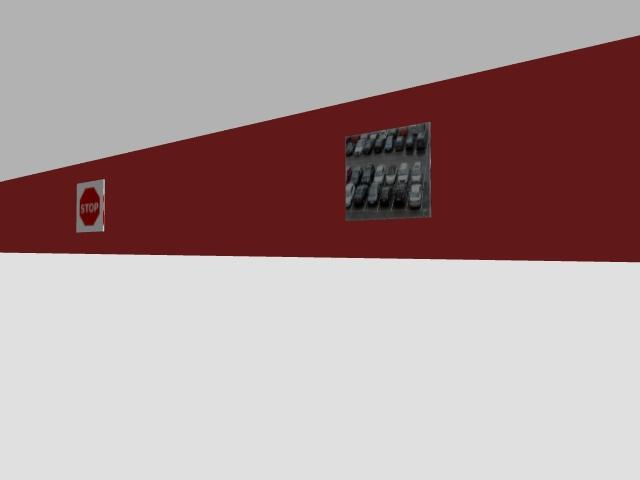stopsign: (76, 180, 104, 232)
vehicle: (393, 183, 407, 207), (409, 183, 422, 208), (367, 182, 380, 206), (354, 184, 368, 206), (379, 185, 393, 206), (363, 133, 377, 154), (361, 163, 374, 185), (410, 161, 422, 184), (350, 166, 362, 186), (385, 164, 396, 185), (397, 162, 408, 183), (374, 133, 386, 152), (346, 183, 355, 208), (374, 164, 384, 184), (416, 131, 426, 150), (405, 133, 414, 152), (384, 135, 394, 152), (354, 139, 364, 156), (395, 136, 405, 151), (346, 142, 355, 156), (345, 166, 351, 183), (386, 128, 397, 135), (368, 131, 377, 139), (409, 125, 417, 134), (345, 136, 355, 143), (351, 134, 359, 142), (399, 127, 407, 135), (360, 132, 368, 139), (377, 129, 385, 136)
